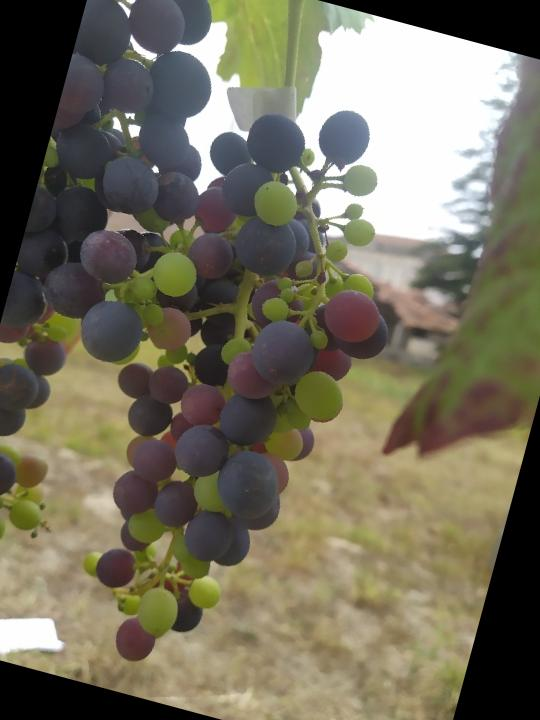grape: (0, 41, 447, 708)
